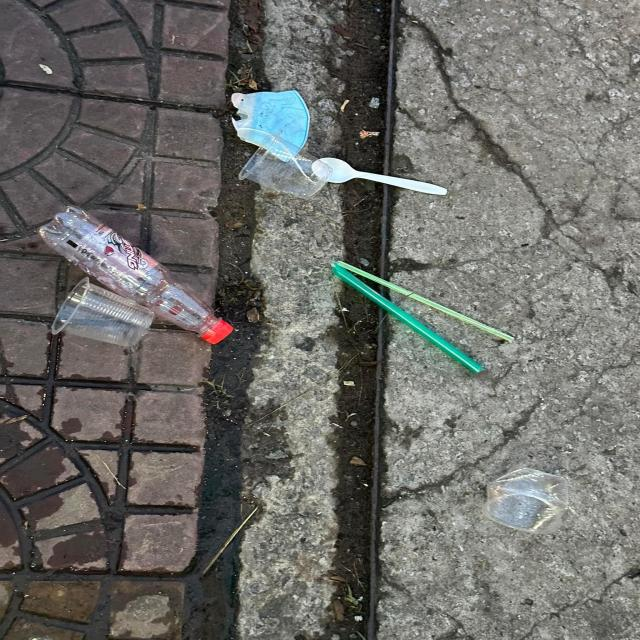bottle: (38, 204, 234, 344)
drinking straw: (332, 262, 484, 373), (337, 260, 515, 342)
mask: (231, 90, 310, 163)
plastic glass: (51, 276, 155, 347), (238, 131, 334, 200), (482, 466, 568, 534)
plastic utensil: (311, 157, 447, 195)
